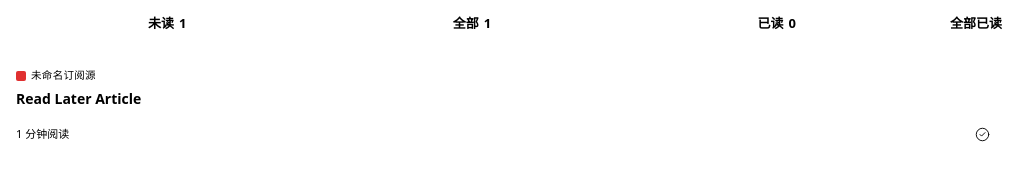
Test: keeps a just-read article visible in unread filter before delayed dismissal
What coordinates should you click on to do the following:
click the button named "标已读"
I would click on:
 (982, 134)
Its box is [960, 112, 1004, 156].
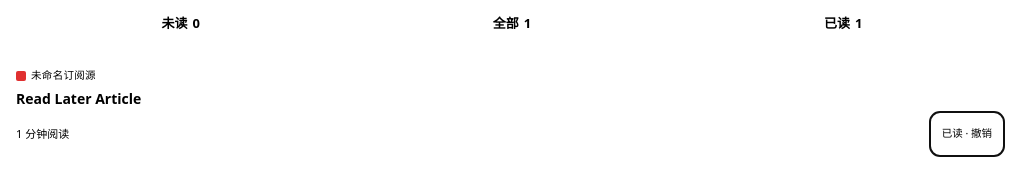
Expected: the heading "Read Later Article" is shown, [16, 89, 141, 108]
Now the button with aria-label "撤销已读" is shown, box [930, 112, 1004, 156]
